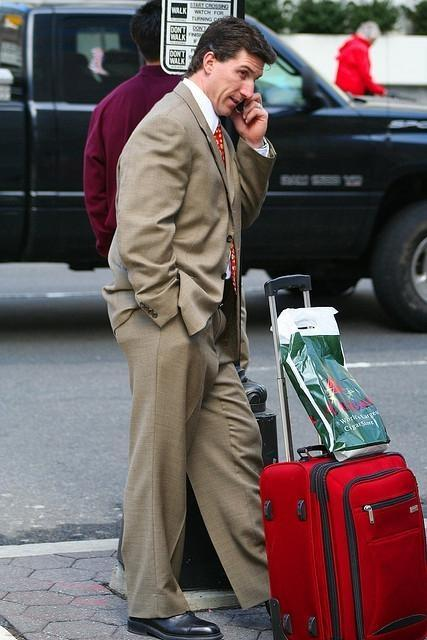truck: (0, 4, 427, 333)
